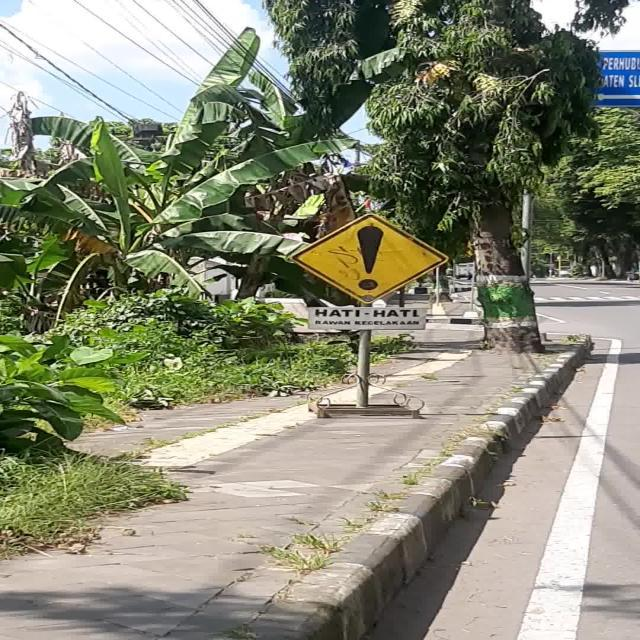Hati-Hati: (286, 214, 448, 304)
